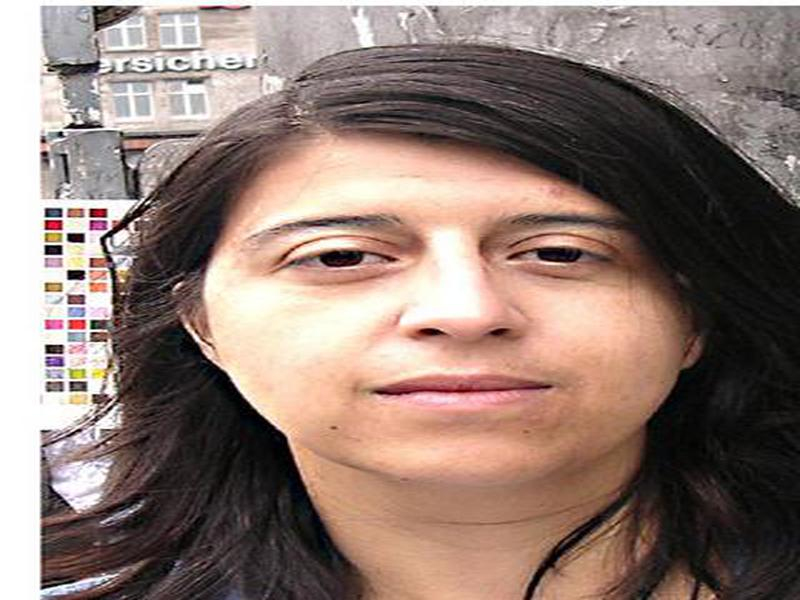without_mask: (204, 155, 683, 484)
